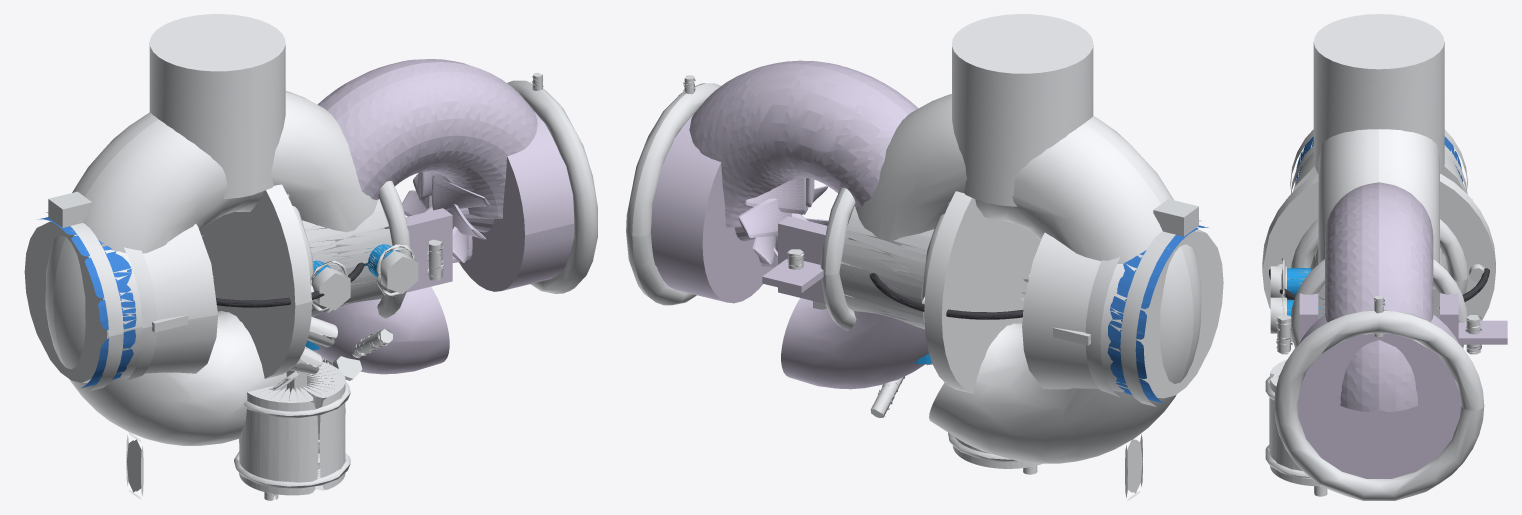
Rendered from turbo_single.glb.
3 views of the same model, side by side, from view 1: azimuth 30°, elevation 25°; view 2: azimuth 150°, elevation 25°; view 3: azimuth 270°, elevation 25° (orthographic). The views are drawn at different scales.
Visible parts, largest first — view 1: Anti_Surge_Ported_Air_Inlet_Snout, Divided_TwinScroll_Turbine_Volute, Inconel_Foil_Turbine_Thermal_Blanket, Adjustable_Wastegate_Linkage_Rod, DualPort_Wastegate_Canister, CHRA_Bearing_Center_Housing, Silicone_Inlet_Coupler_Boot, AN4_Hex_Nut_Body, Backplate_Viton_O_Ring; view 2: Anti_Surge_Ported_Air_Inlet_Snout, Divided_TwinScroll_Turbine_Volute, Inconel_Foil_Turbine_Thermal_Blanket, Adjustable_Wastegate_Linkage_Rod, CHRA_Bearing_Center_Housing, Silicone_Inlet_Coupler_Boot, AN4_Hex_Nut_Body, Backplate_Viton_O_Ring, DualPort_Wastegate_Canister; view 3: Anti_Surge_Ported_Air_Inlet_Snout, Adjustable_Wastegate_Linkage_Rod, Inconel_Foil_Turbine_Thermal_Blanket, Divided_TwinScroll_Turbine_Volute, DualPort_Wastegate_Canister, CHRA_Bearing_Center_Housing, AN10_Turbo_Oil_Drain_Fitting, Backplate_Viton_O_Ring, Silicone_Inlet_Coupler_Boot.
Boxes of the visible parts, x1,y1,x2,y2 form: Anti_Surge_Ported_Air_Inlet_Snout: (24, 14, 389, 445); Divided_TwinScroll_Turbine_Volute: (310, 111, 574, 374); Inconel_Foil_Turbine_Thermal_Blanket: (310, 59, 537, 284); Adjustable_Wastegate_Linkage_Rod: (46, 72, 597, 488); DualPort_Wastegate_Canister: (239, 316, 345, 495); CHRA_Bearing_Center_Housing: (302, 199, 392, 316); Silicone_Inlet_Coupler_Boot: (38, 217, 136, 388); AN4_Hex_Nut_Body: (126, 235, 319, 500); Backplate_Viton_O_Ring: (216, 262, 364, 307); Anti_Surge_Ported_Air_Inlet_Snout: (848, 14, 1223, 463); Divided_TwinScroll_Turbine_Volute: (651, 114, 928, 389); Inconel_Foil_Turbine_Thermal_Blanket: (689, 60, 926, 312); Adjustable_Wastegate_Linkage_Rod: (626, 75, 1201, 461); CHRA_Bearing_Center_Housing: (839, 206, 934, 329); Silicone_Inlet_Coupler_Boot: (1107, 225, 1208, 403); AN4_Hex_Nut_Body: (1019, 264, 1142, 500); Backplate_Viton_O_Ring: (869, 273, 1023, 319); DualPort_Wastegate_Canister: (952, 436, 1042, 468); Anti_Surge_Ported_Air_Inlet_Snout: (1262, 14, 1495, 342); Adjustable_Wastegate_Linkage_Rod: (1265, 129, 1484, 500); Inconel_Foil_Turbine_Thermal_Blanket: (1325, 182, 1433, 411); Divided_TwinScroll_Turbine_Volute: (1298, 293, 1507, 478); DualPort_Wastegate_Canister: (1269, 359, 1321, 486); CHRA_Bearing_Center_Housing: (1310, 246, 1448, 319); AN10_Turbo_Oil_Drain_Fitting: (1287, 268, 1322, 315); Backplate_Viton_O_Ring: (1269, 268, 1489, 308); Silicone_Inlet_Coupler_Boot: (1295, 136, 1462, 183).
Size of the model in its own units: 0.3692 by 0.3096 by 0.1634.
